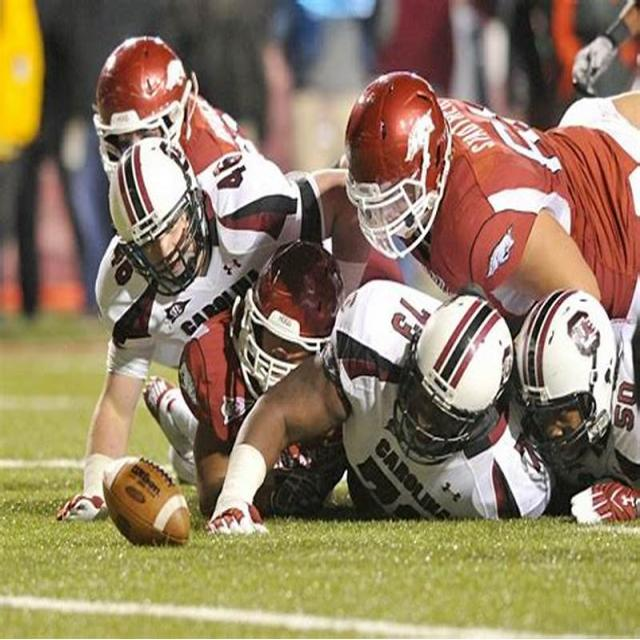illegal_helmet: (342, 66, 454, 268), (390, 288, 512, 470), (509, 284, 618, 467), (235, 238, 346, 399), (89, 30, 201, 185), (109, 132, 212, 296)
